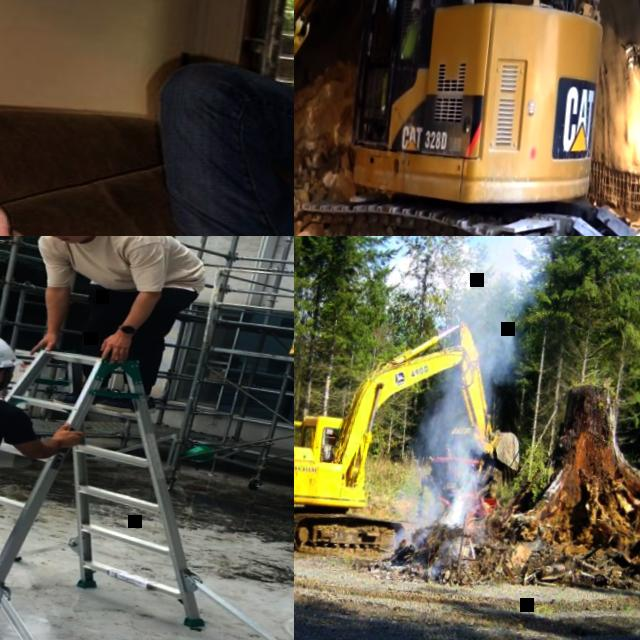Hardhat: (0, 328, 28, 372), (409, 0, 422, 13)
NO-Mask: (56, 236, 92, 247), (0, 375, 12, 392)
NO-Safety Vest: (52, 236, 165, 296)
Person: (0, 0, 294, 236), (3, 236, 216, 422), (0, 320, 97, 640), (365, 0, 426, 145), (320, 433, 336, 462)
Safety Vest: (398, 20, 420, 62)
vehicle: (294, 0, 640, 236), (294, 293, 537, 578)
